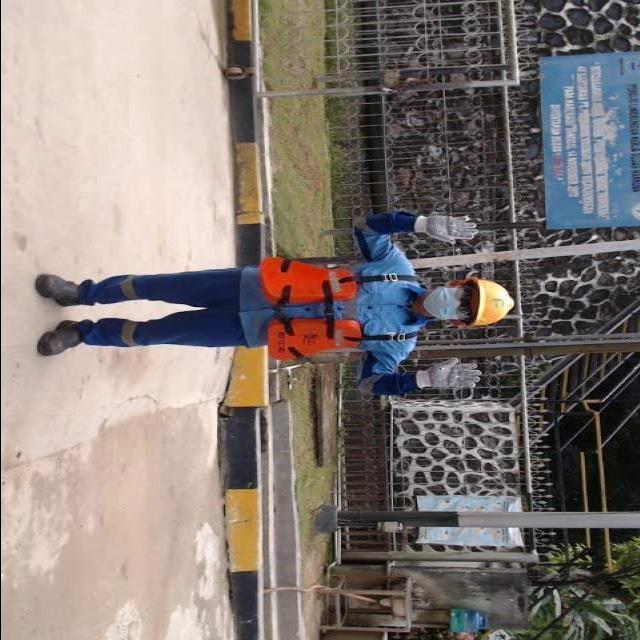helmet: (448, 268, 510, 340)
